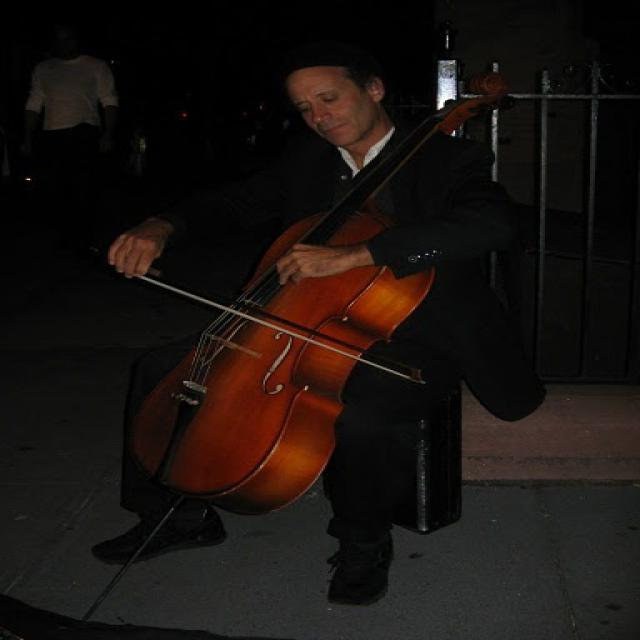cello: (122, 74, 508, 515)
